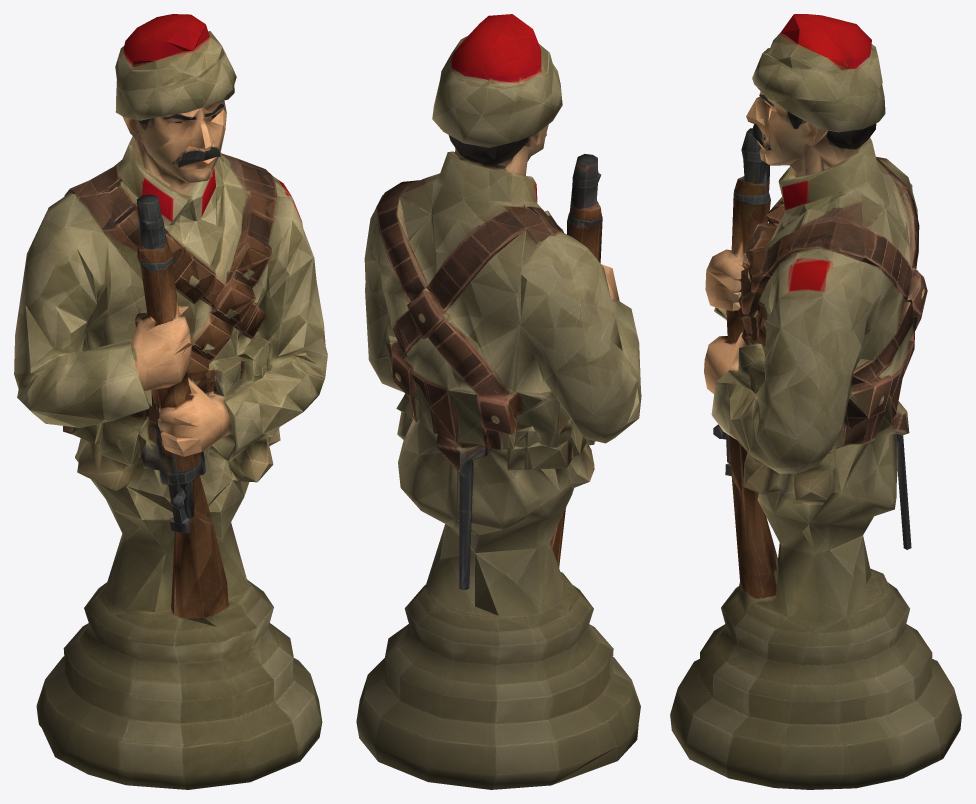
File: ottoman_pawn.glb
3 renders of one model, left to right at view 1: azimuth 30°, elevation 25°; view 2: azimuth 150°, elevation 25°; view 3: azimuth 270°, elevation 25°, orthographic.
Bounding box in the file's own units: 0.8322 × 2 × 0.737.
Materials: 1 (1 with a texture image).
